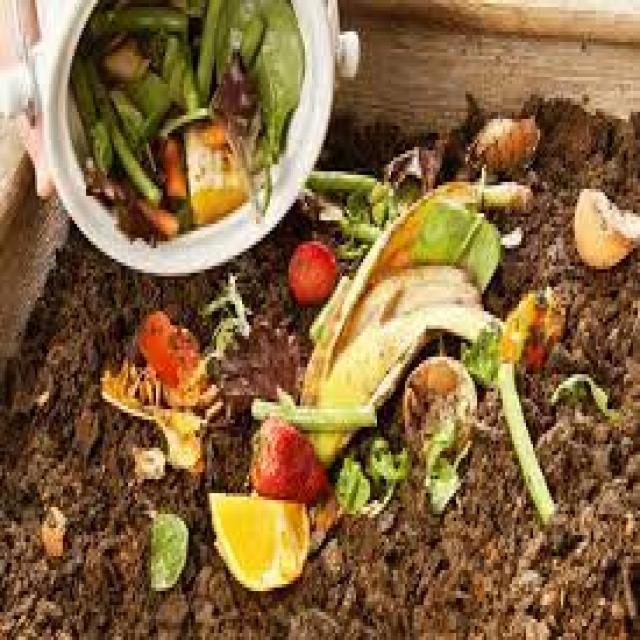Organik: (76, 264, 346, 629), (275, 226, 553, 526), (72, 3, 300, 230), (200, 416, 340, 618), (560, 162, 640, 296), (461, 105, 555, 208)
